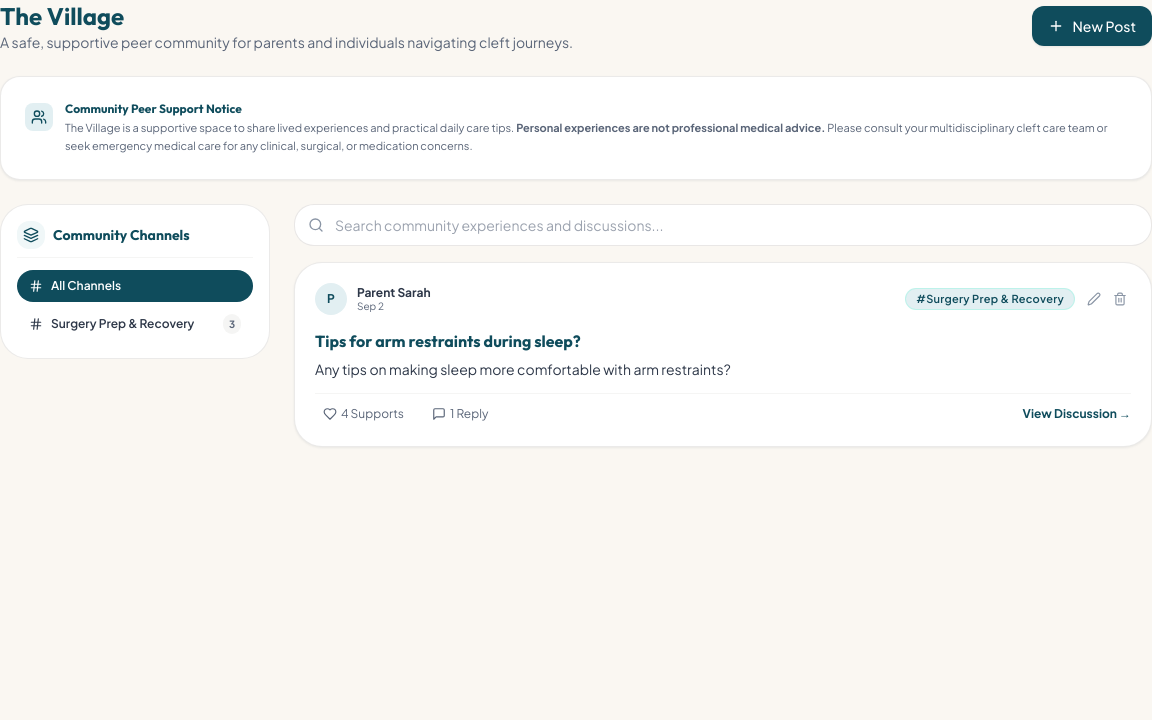
Test case: VillagePage Component › opens post composer modal on "New Post" button click
Click the button "New Post". click: (1092, 26)
box: [1032,6,1151,46]
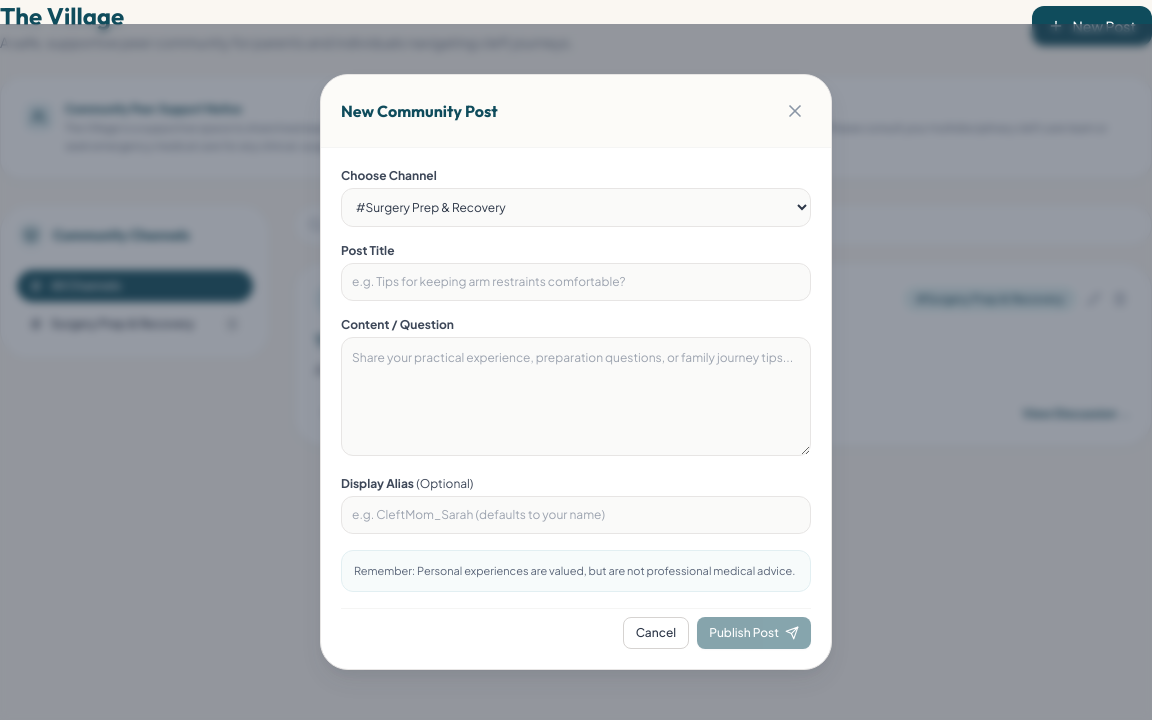
Check: the heading "New Community Post" is shown, box [341,99,498,123]
Check: the field with placeholder "e.g. Tips for keeping arm restraints comfortable?" is shown, box [341,263,811,301]
